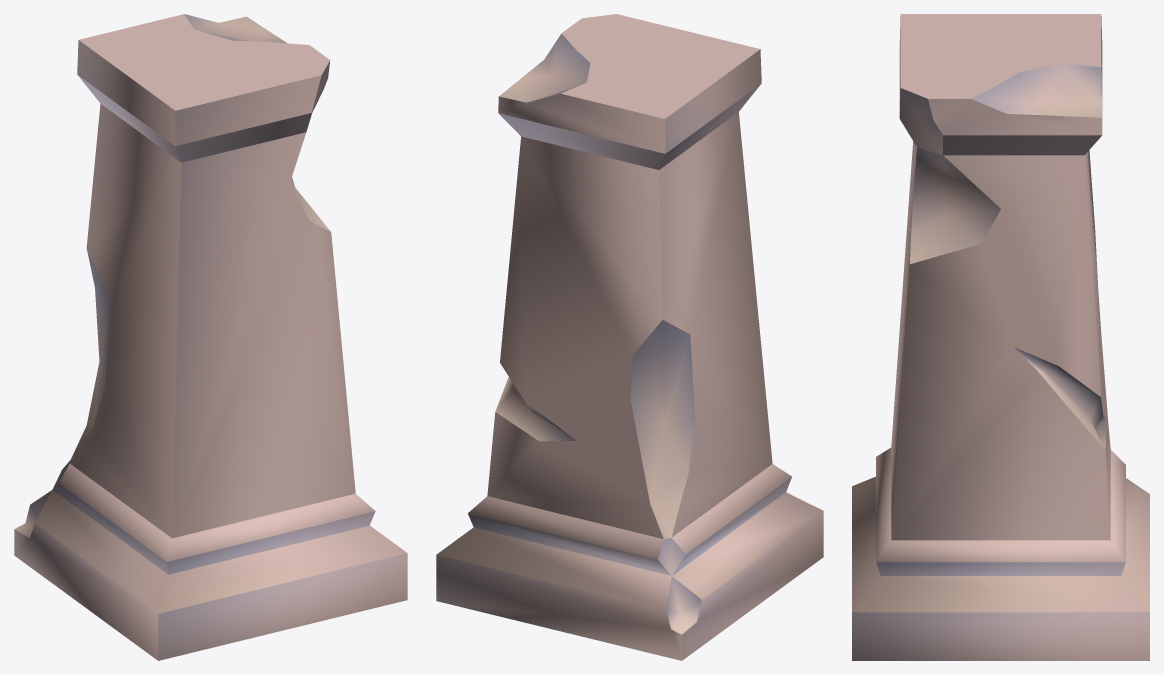
Rendered from SquarePillar.gltf.
3 views of the same model, side by side, from view 1: azimuth 30°, elevation 25°; view 2: azimuth 150°, elevation 25°; view 3: azimuth 270°, elevation 25° (orthographic). The views are drawn at different scales.
Visible parts, largest first — view 1: SquarePillarStaticMesh; view 2: SquarePillarStaticMesh; view 3: SquarePillarStaticMesh.
Boxes of the visible parts, bbox=[...] form: SquarePillarStaticMesh: bbox=[14, 14, 407, 660]; SquarePillarStaticMesh: bbox=[436, 14, 823, 660]; SquarePillarStaticMesh: bbox=[852, 14, 1149, 660].
Size of what is drawn, in the model's own units: 2 by 4.01 by 2.
